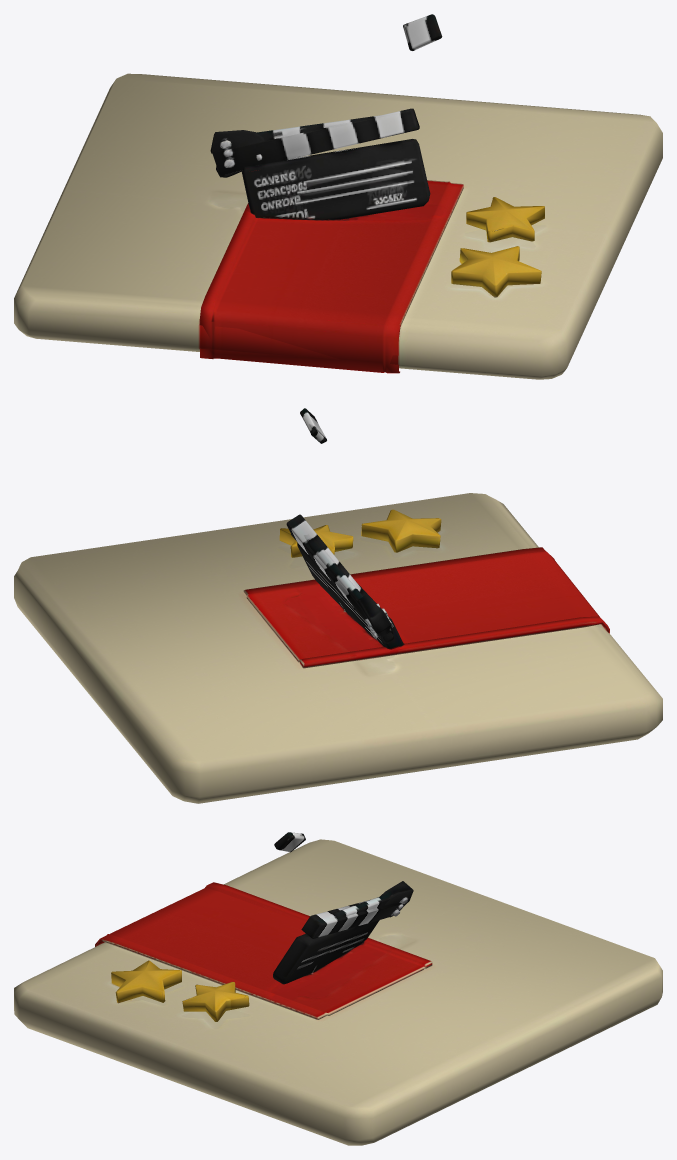
3 views of the same model, one above another, from view 1: azimuth 30°, elevation 25°; view 2: azimuth 150°, elevation 25°; view 3: azimuth 270°, elevation 25° (orthographic). The views are drawn at different scales.
Visible parts, largest first — view 1: tripo_node_ef34ed04-626a-4a62-853f-7f2c751d4d7b; view 2: tripo_node_ef34ed04-626a-4a62-853f-7f2c751d4d7b; view 3: tripo_node_ef34ed04-626a-4a62-853f-7f2c751d4d7b.
Part boxes in pixels (x1=…): tripo_node_ef34ed04-626a-4a62-853f-7f2c751d4d7b: x1=14, y1=14, x2=662, y2=379; tripo_node_ef34ed04-626a-4a62-853f-7f2c751d4d7b: x1=14, y1=408, x2=662, y2=803; tripo_node_ef34ed04-626a-4a62-853f-7f2c751d4d7b: x1=14, y1=832, x2=662, y2=1145.
Size of the model in its own units: 1.35 by 0.4785 by 1.35.
Materials: 1 (1 with a texture image).
